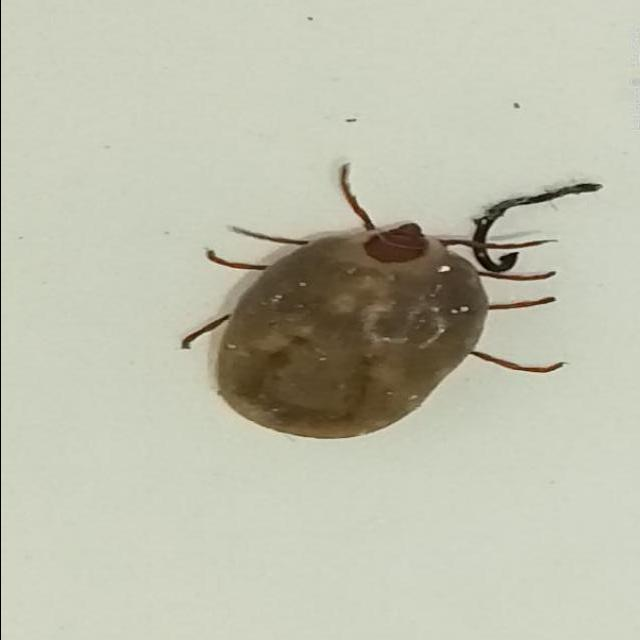Rhipicephalus Sanguineus-F-Fed: (181, 160, 570, 439)
